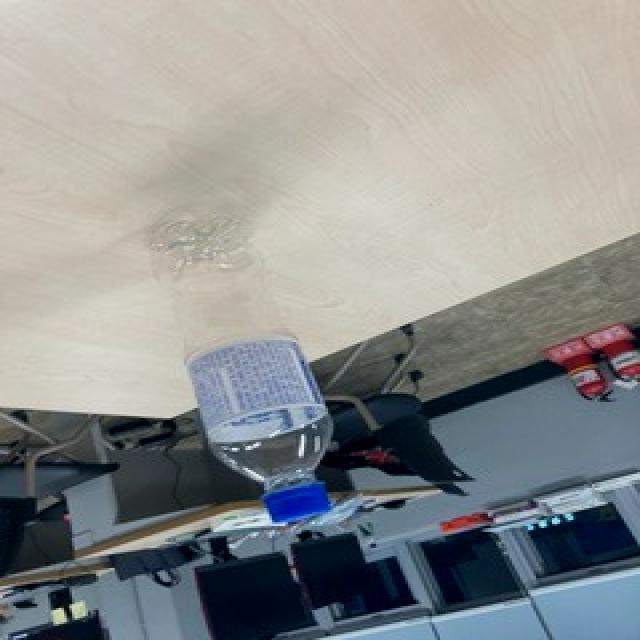bottle: (146, 198, 338, 532)
